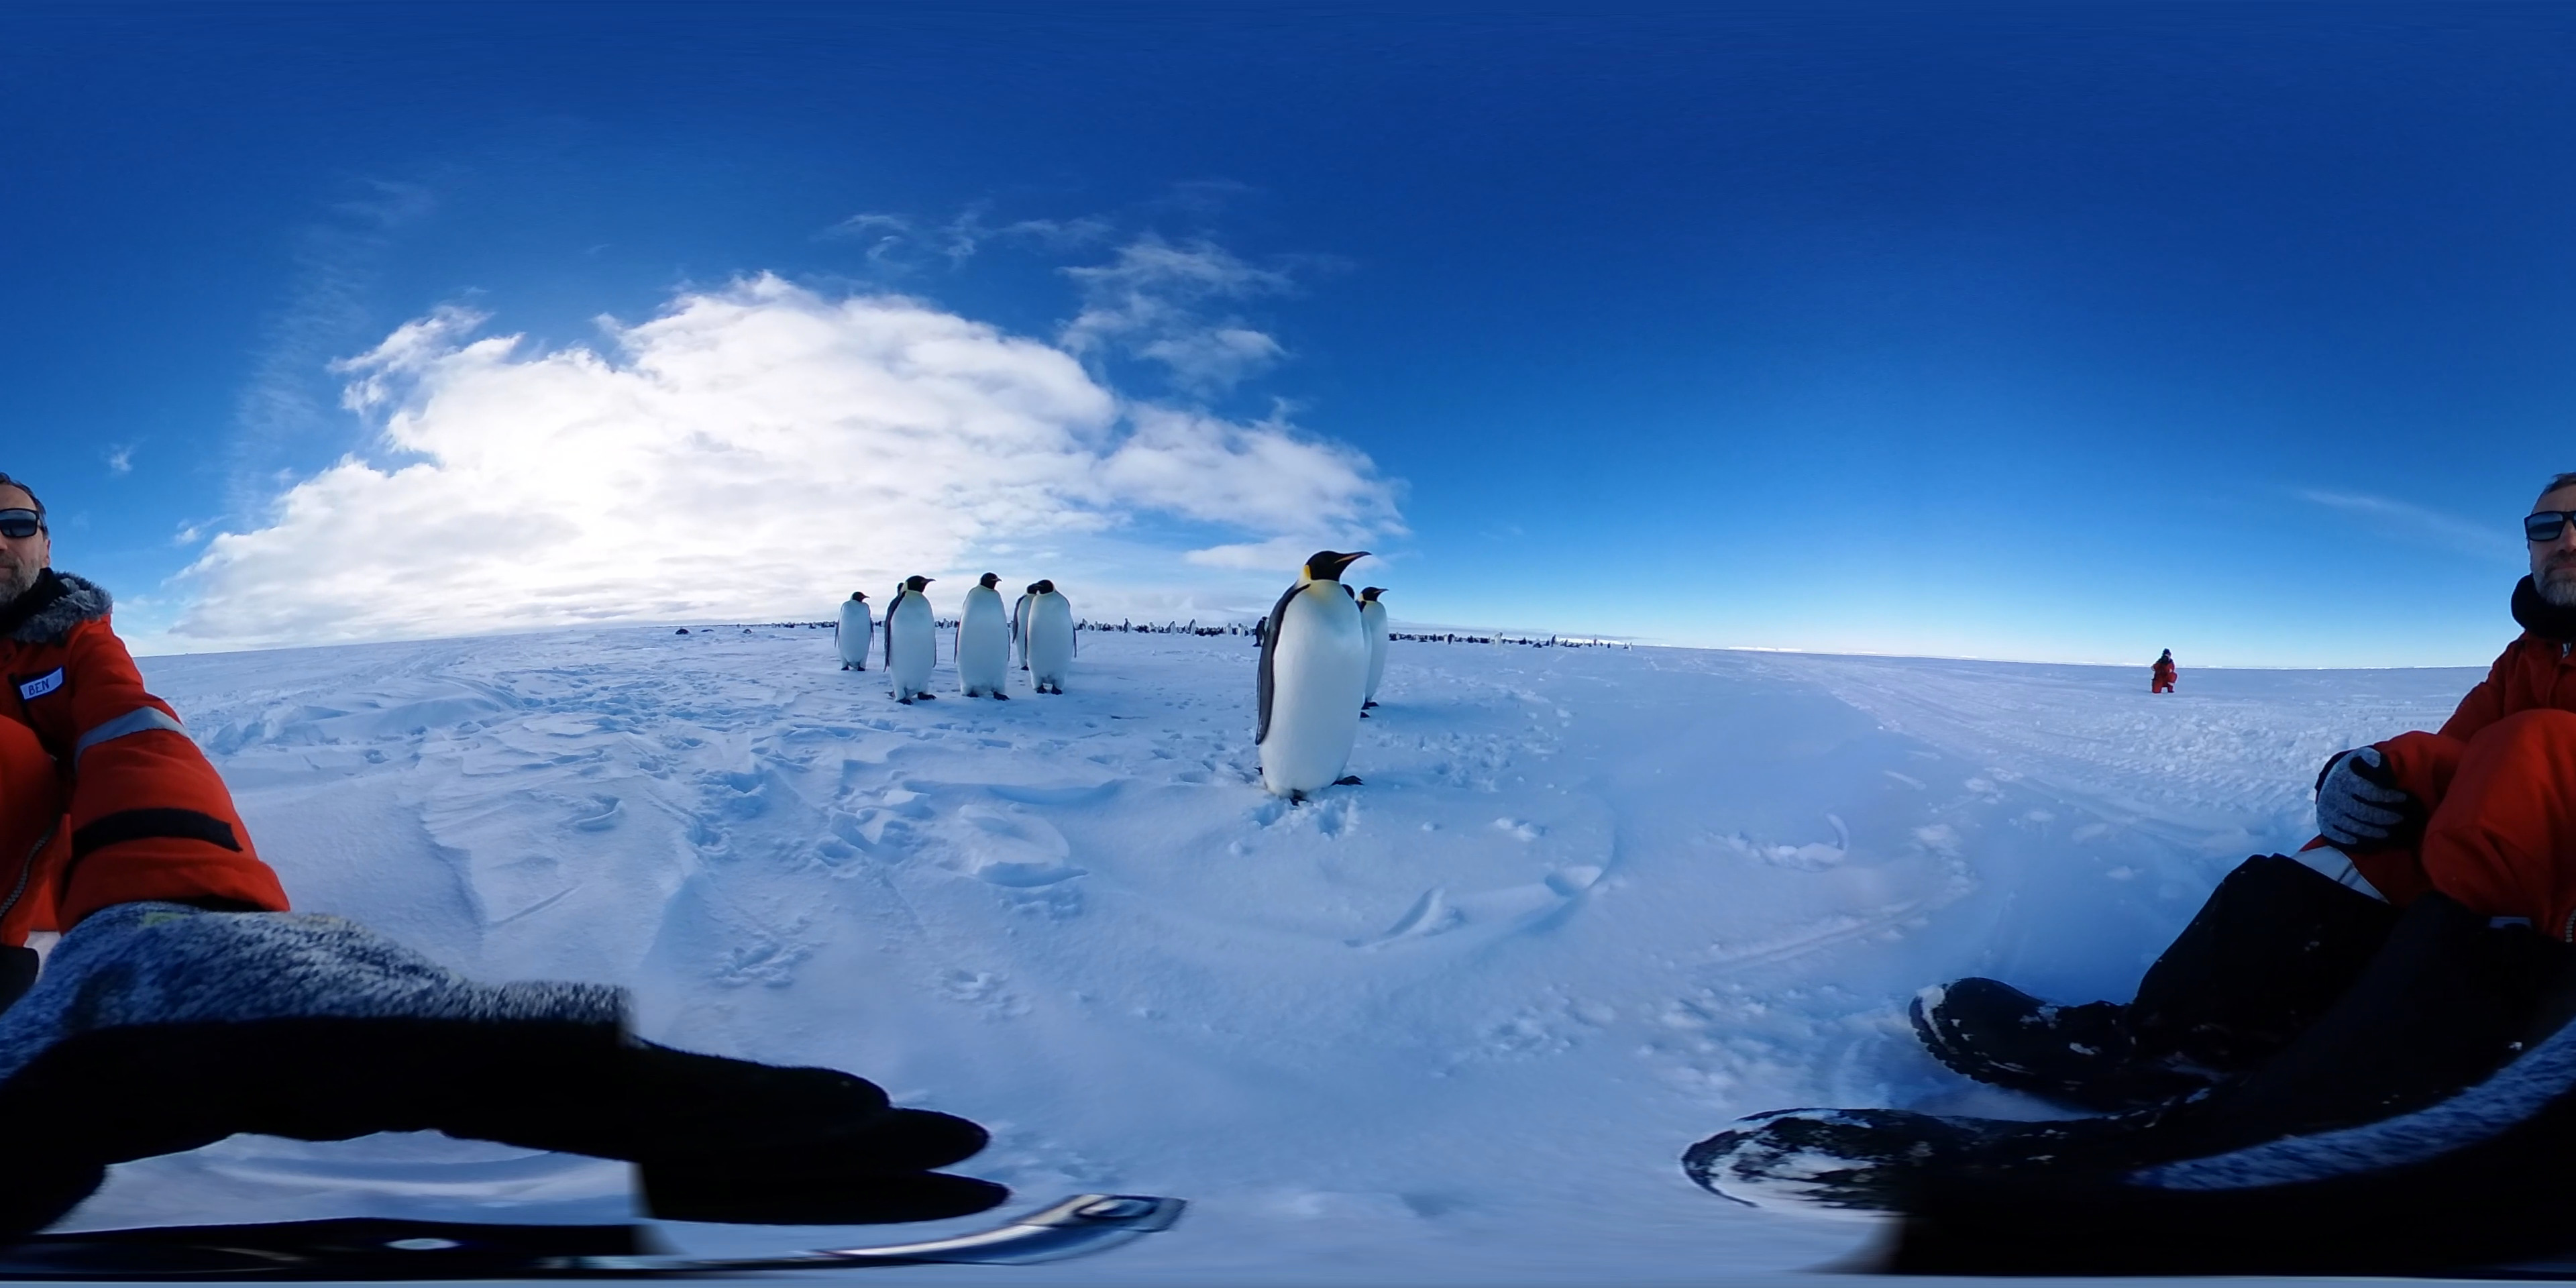adult_standing_penguin: (1255, 549, 1380, 812), (951, 570, 1014, 706), (879, 573, 938, 705), (1025, 580, 1081, 697), (1354, 580, 1388, 718), (831, 588, 877, 674), (1012, 582, 1053, 670)
researcher: (1902, 468, 2576, 1083), (0, 463, 294, 1037), (2149, 644, 2180, 698)
